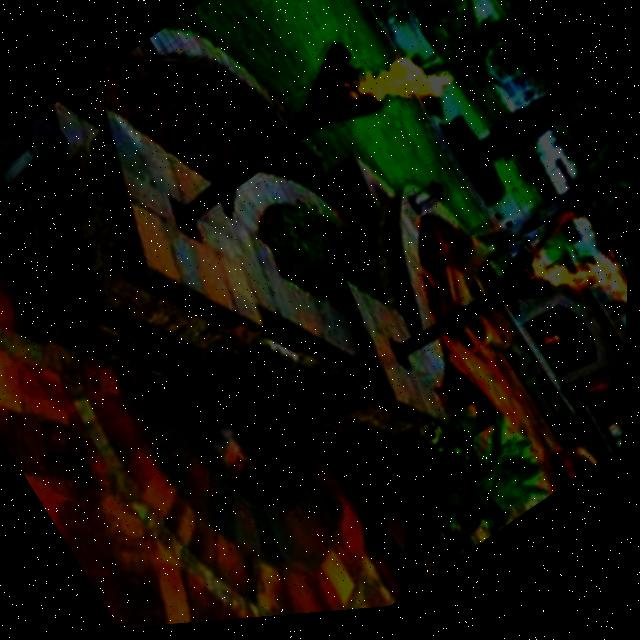Fire: (346, 20, 472, 147), (522, 225, 632, 361)
